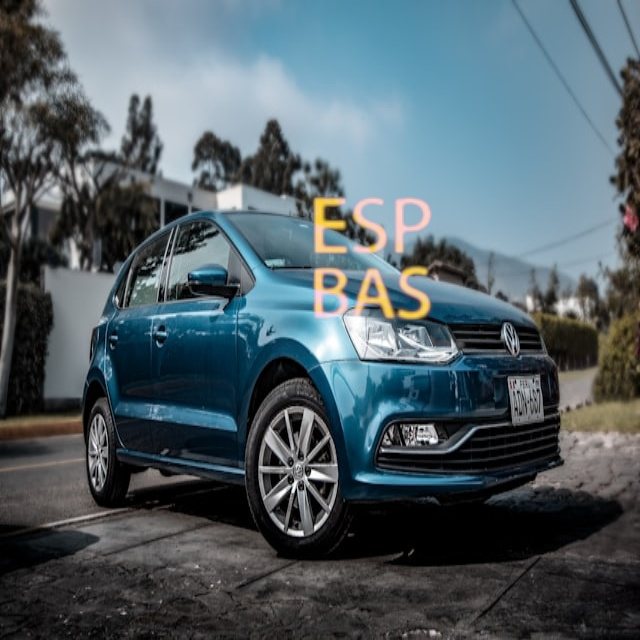symbol: (274, 161, 472, 359)
